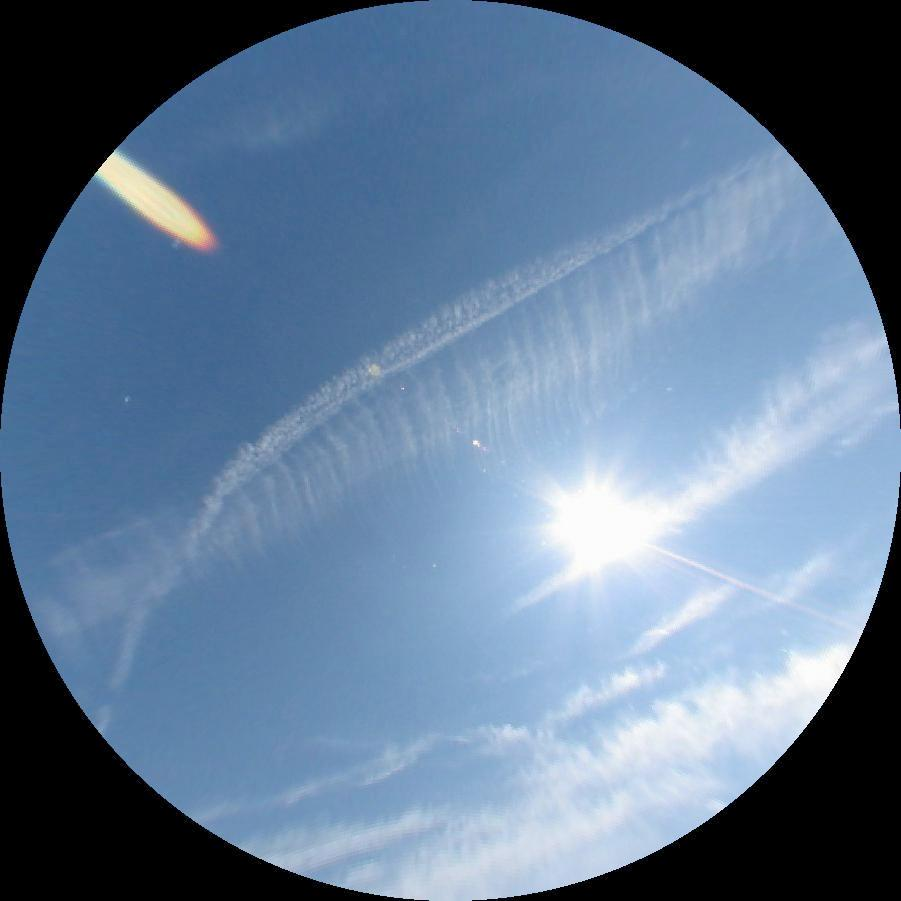contrail veryold: (16, 50, 791, 738), (9, 147, 864, 702), (471, 321, 901, 646)
parasite: (639, 539, 864, 636)
sun: (556, 493, 647, 563)
